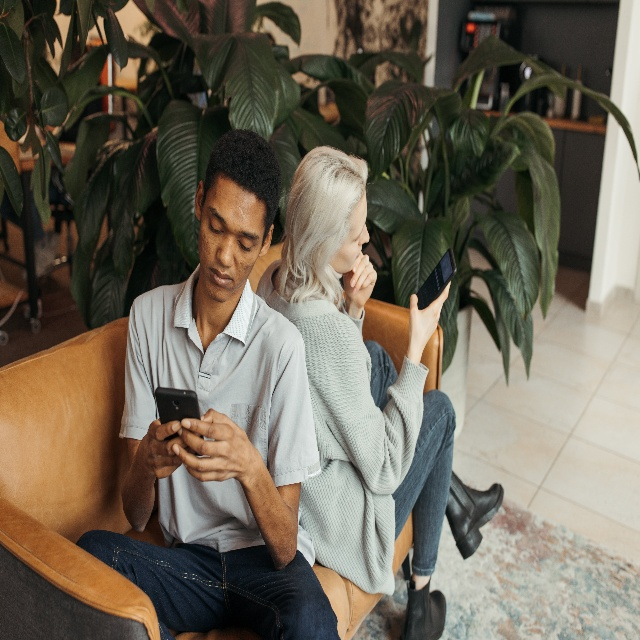Sin_guantes: (171, 408, 250, 482), (145, 415, 195, 479), (408, 281, 451, 349), (343, 252, 377, 308)
